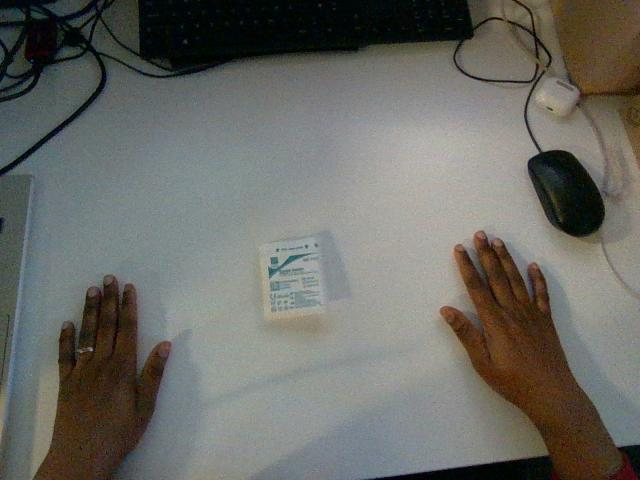gauze: (260, 237, 325, 319)
